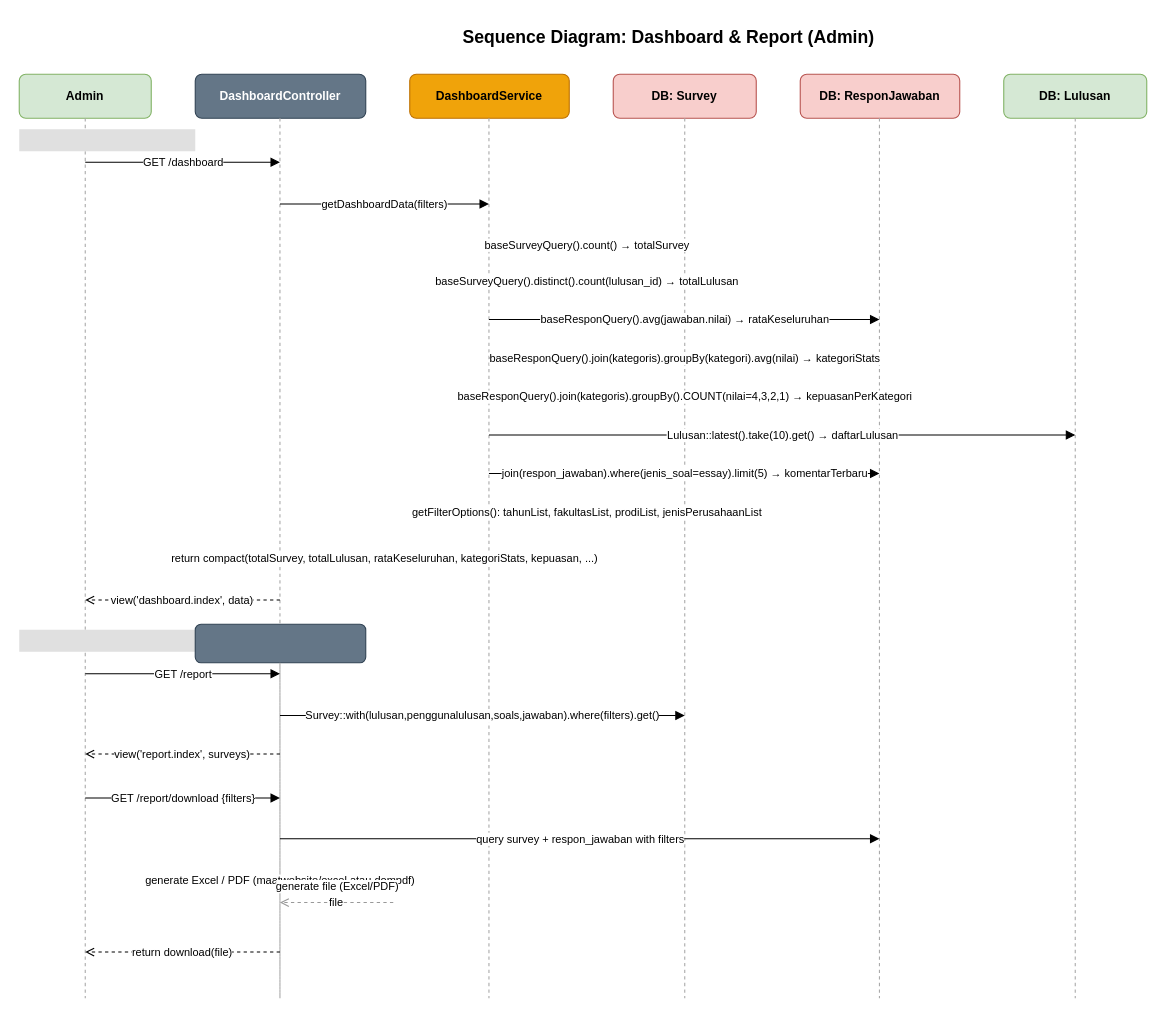
The diagram is 1166 pixels wide and 1019 high, and some of its shapes have lost their labels. Here are the shapes that lost their labels. From the top down, the centre of each, then its label:
At point (107, 140): "[1] Lihat Dashboard".
At point (129, 640): "[2] Lihat & Download Report".
At point (280, 643): "ReportController".
